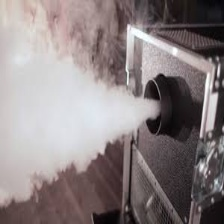smoke: (4, 43, 142, 194)
